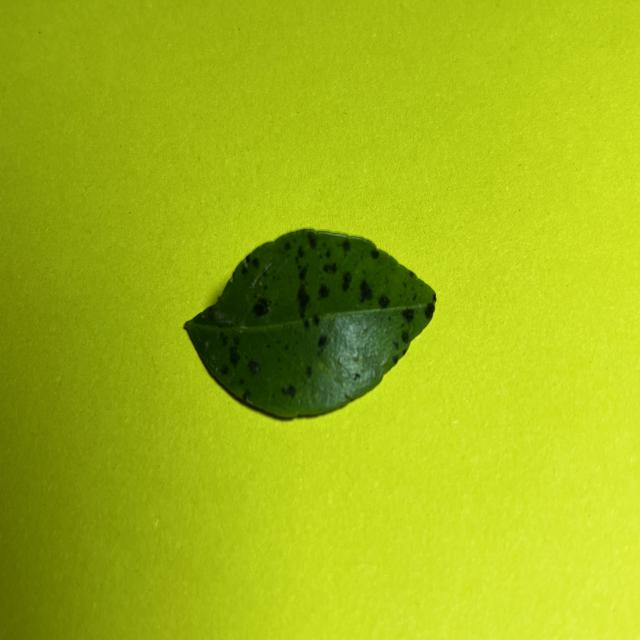sooty_mold: (186, 230, 435, 416)
